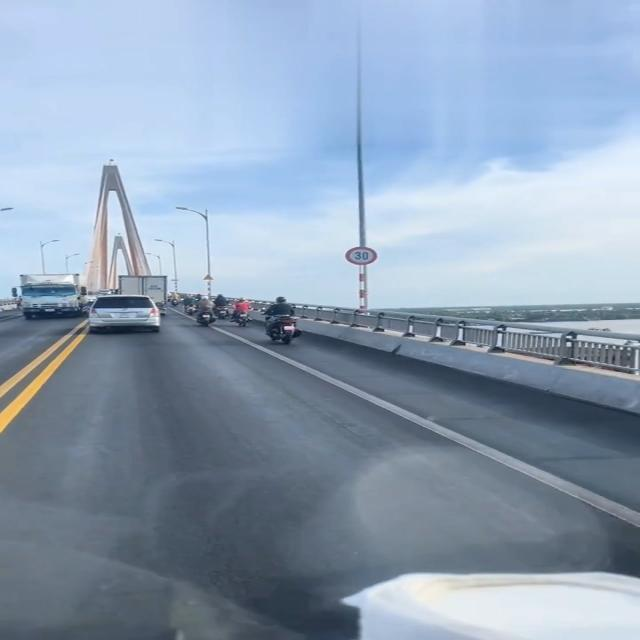127-toc-do-toi-da-30: (346, 247, 378, 266)
